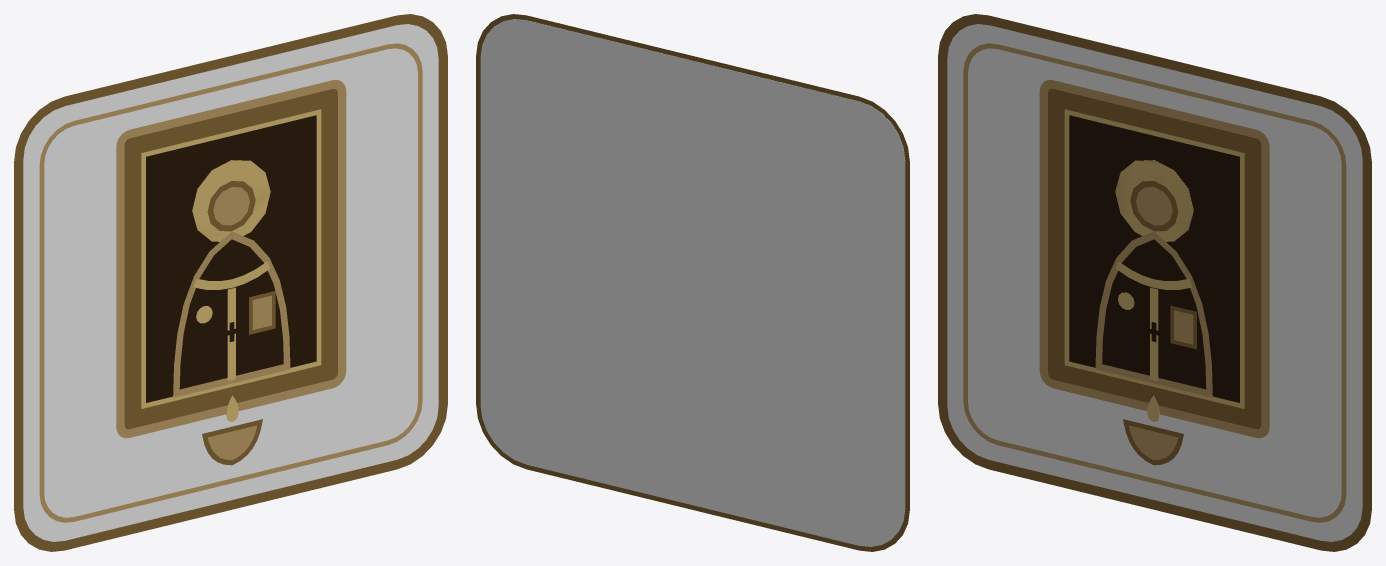
File: obj-ikona.glb
The picture shows the model from 3 angles, left to right: view 1: azimuth 30°, elevation 25°; view 2: azimuth 150°, elevation 25°; view 3: azimuth 330°, elevation 25°; orthographic projection.
Visible parts, largest first — view 1: obj-ikona; view 2: obj-ikona; view 3: obj-ikona.
Part boxes in pixels (<box>): obj-ikona: <box>14,14,447,551</box>; obj-ikona: <box>476,14,909,551</box>; obj-ikona: <box>938,14,1371,551</box>.
Size of the model in its own units: 0.3917 by 0.3917 by 0.00271.
